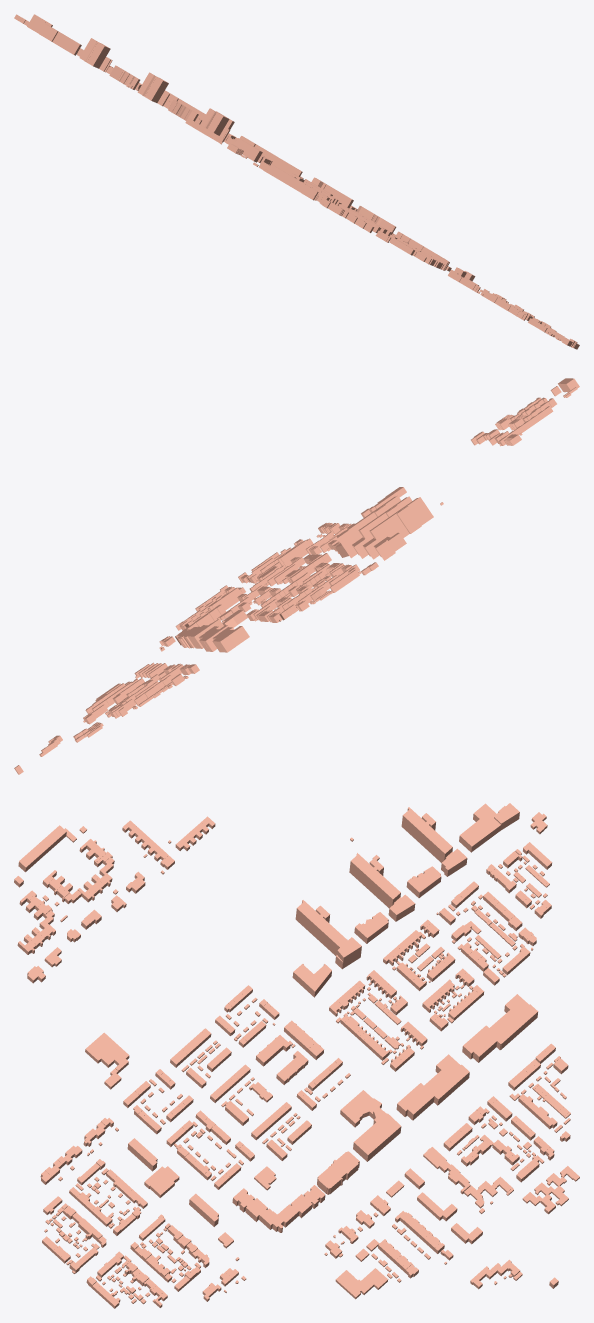
3 views of the same model, one above another, from view 1: azimuth 30°, elevation 25°; view 2: azimuth 150°, elevation 25°; view 3: azimuth 270°, elevation 25° (orthographic). The views are drawn at different scales.
Size of the model in its own units: 522 by 395 by 635.
